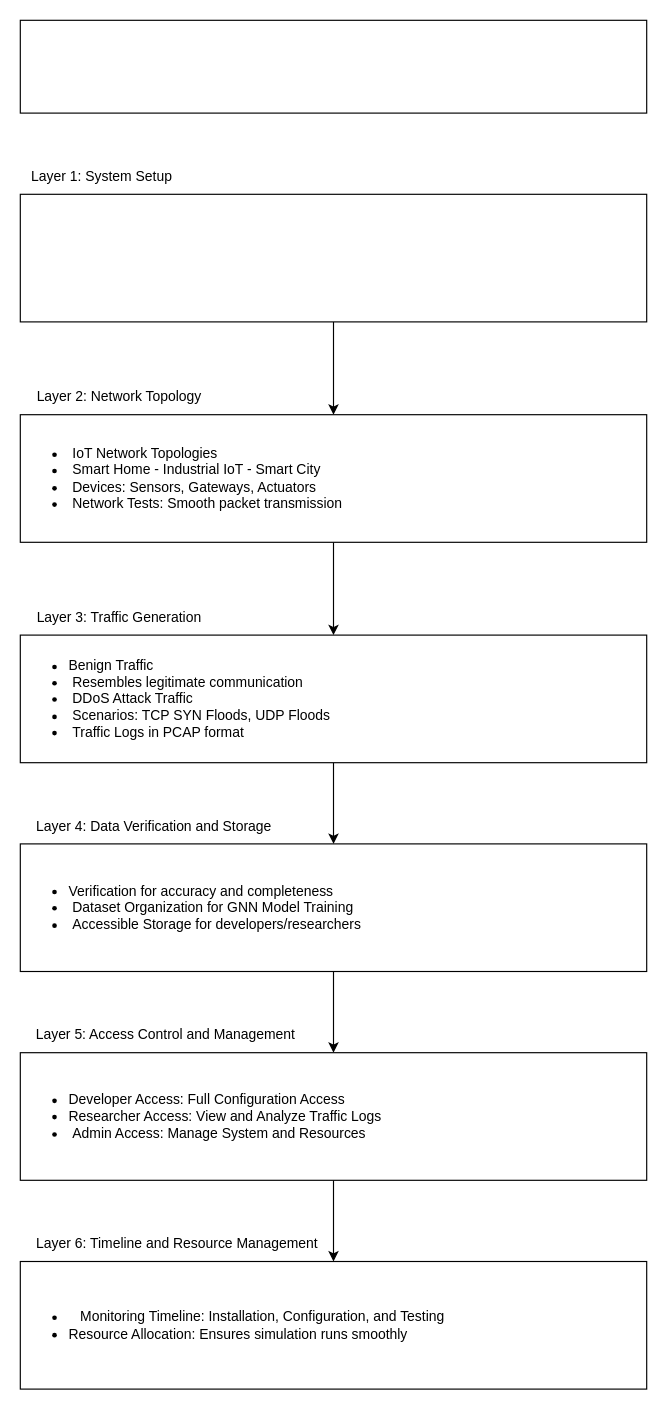
Some shapes in this 667 by 1409 pixel diagram are drawn without their labels. The centre of each missing label's shape, as x and y in pixels:
Linux-based System NS-3 Installed Dependencies Integrated: IPv6, 6LoWPAN, MQTT: point 333,257
NS-3 Simulation Environment Architecture: point 333,66
